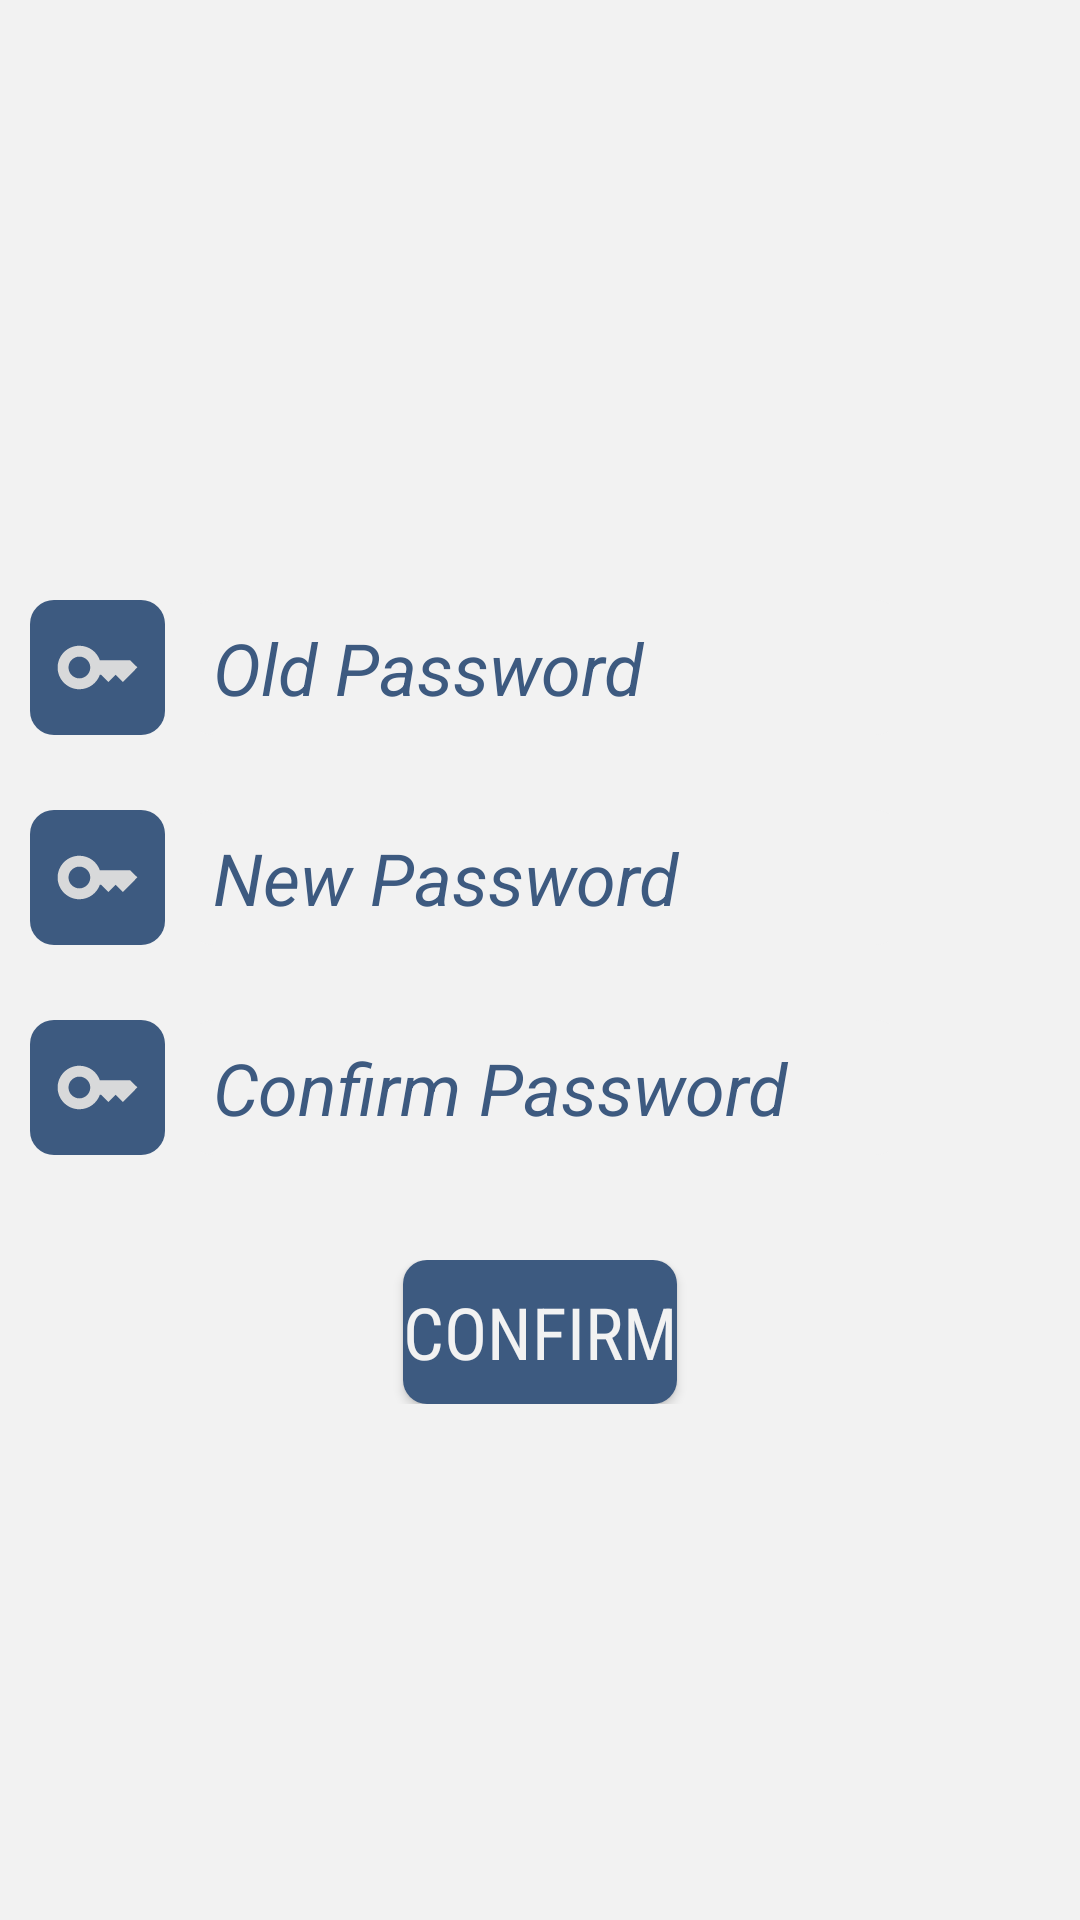

Icon click points for this 1080*1920 phone screenshot, format (x,y):
key: (97,667), (97,877), (97,1087)
